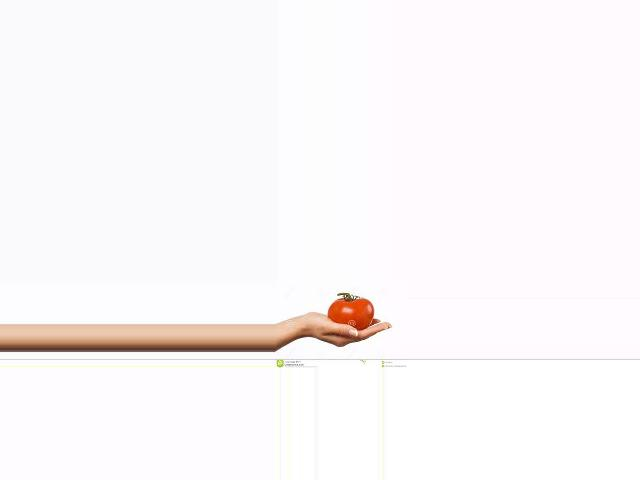tomato: (328, 298, 374, 330)
